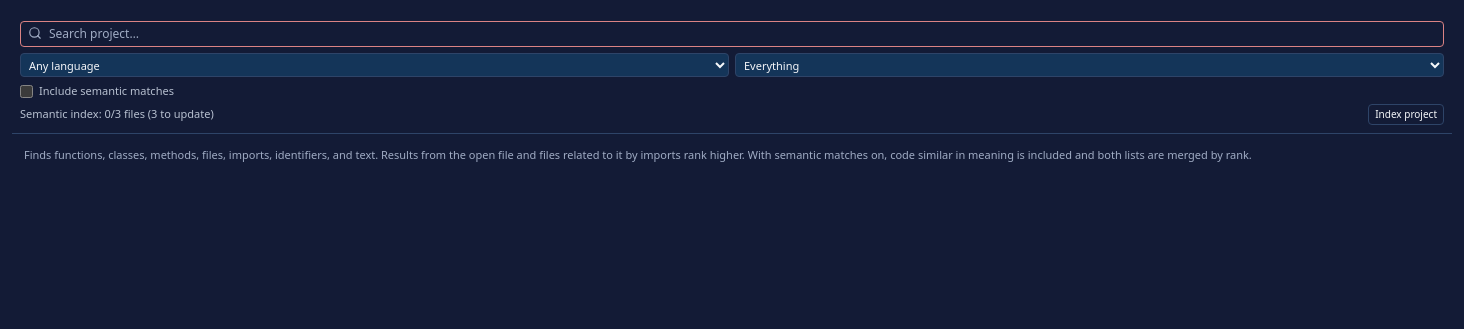
Test: ProjectSearch semantic retrieval › indexes on request and sends hybrid searches when the toggle is on
Expected: the text "Semantic index: 0/3 files (3 to update)" is shown, 20,106 -> 214,121
Click the button "Index project" at [1406, 114], box 1368,104 -> 1444,124
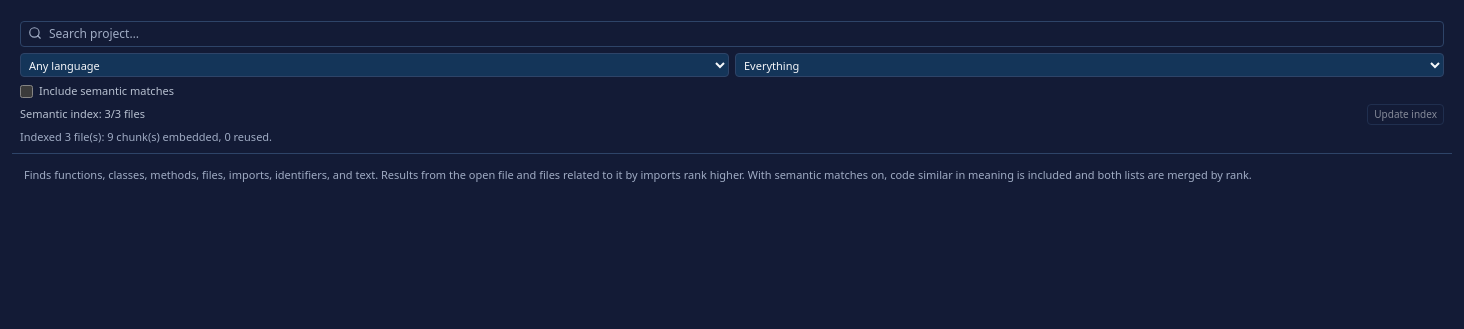
Expected: the text "Indexed 3 file(s): 9 chunk(s) embedded, 0 reused." is shown, 20,128 -> 272,144
Expected: the text "Semantic index: 3/3 files" is shown, 20,106 -> 145,121
Expected: the button "Update index" is disabled, 1367,104 -> 1444,124
Click the checkbox labelled "Include semantic matches" at [26, 91], box 20,85 -> 33,98
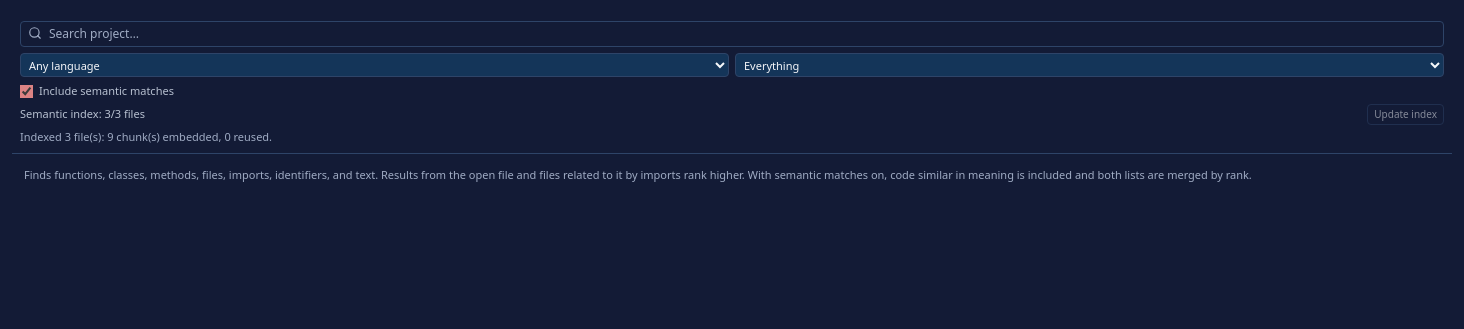
Type "password" into the search field labelled "Search project" at [732, 34], box 20,21 -> 1444,47
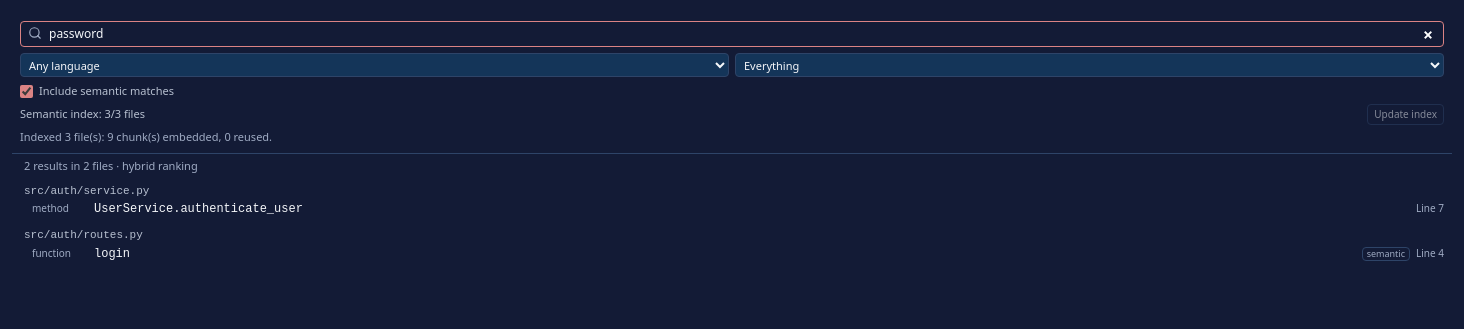
Expected: the text "semantic" is shown, 1362,246 -> 1410,260
Expected: the text "login" is shown, 94,246 -> 130,260
Expected: the text "2 results in 2 files · hybrid ranking" is shown, 24,158 -> 198,173
Click the button "function login semantic Line 4" at [52, 252], box 12,244 -> 1452,264
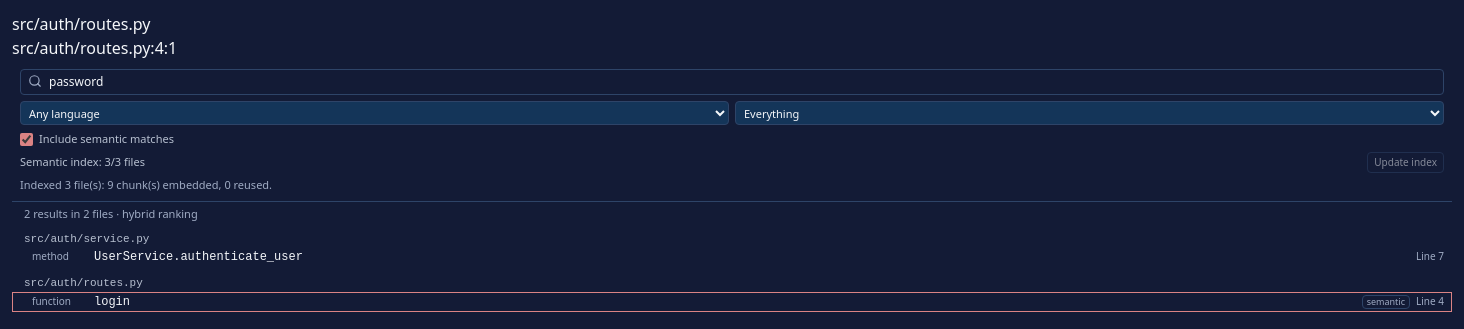
Expected: the text with test id "reveal" reads "src/auth/routes.py:4:1", 12,37 -> 177,59
